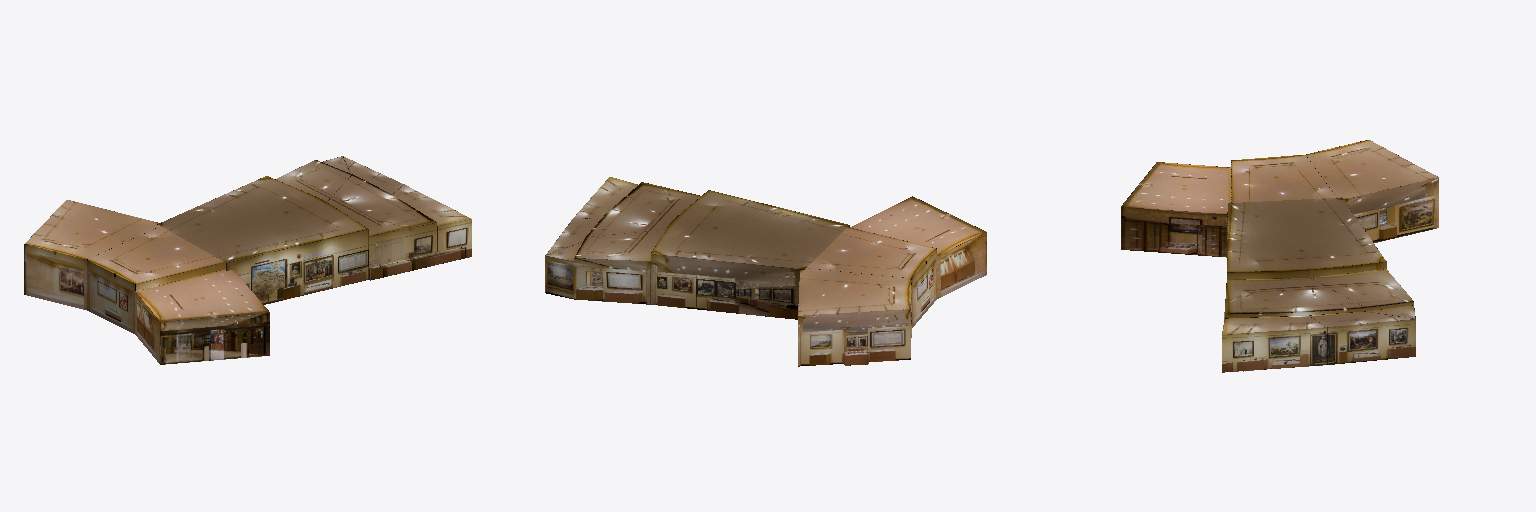
3 views of the same model, side by side, from view 1: azimuth 30°, elevation 25°; view 2: azimuth 150°, elevation 25°; view 3: azimuth 270°, elevation 25° (orthographic).
Parts seen in each view (by area): view 1: g_am_2, g_am_0; view 2: g_am_2, g_am_0; view 3: g_am_2, g_am_0.
Part boxes in pixels (x1,y1,x2,y2): g_am_2: (157,156,471,304); g_am_0: (24,200,269,364); g_am_2: (545,177,849,319); g_am_0: (798,196,986,366); g_am_2: (1222,197,1415,372); g_am_0: (1121,140,1438,257).
Size of the model in its own units: 1975 by 258 by 1454.
1 materials, 1 textured.